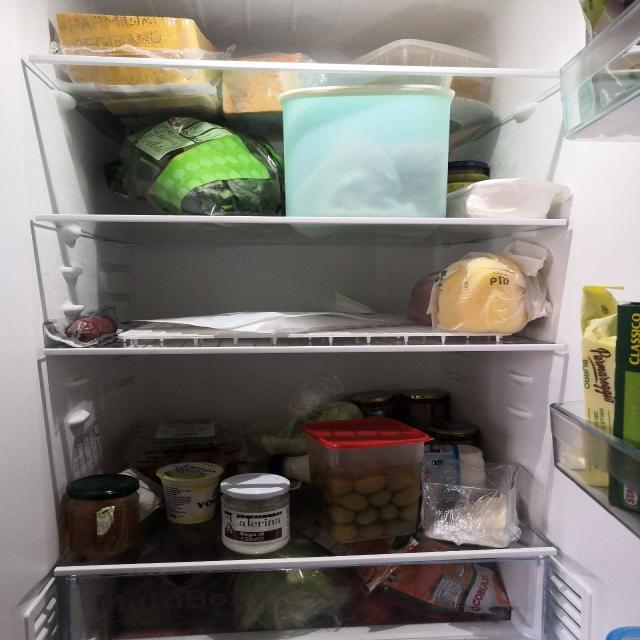butter: (572, 280, 626, 488)
carrots: (379, 555, 512, 622)
cheese: (51, 3, 231, 100), (431, 257, 551, 345), (422, 478, 527, 550)
spinach: (97, 108, 300, 211)
